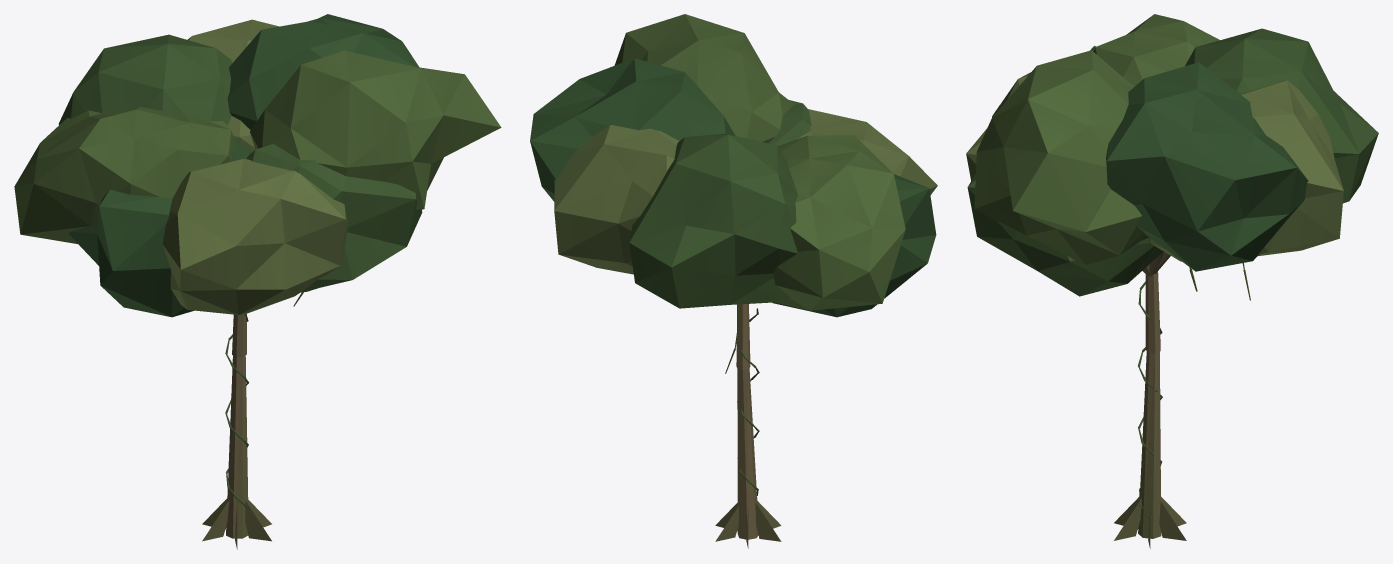
File: jungle-canopy-b-vines.glb
3 views of the same model, side by side, from view 1: azimuth 30°, elevation 25°; view 2: azimuth 150°, elevation 25°; view 3: azimuth 270°, elevation 25° (orthographic). The views are drawn at different scales.
Parts seen in each view (by area): view 1: Широколистное дерево с лианами; view 2: Широколистное дерево с лианами; view 3: Широколистное дерево с лианами.
Part boxes in pixels (bbox=[...]): Широколистное дерево с лианами: bbox=[14, 14, 501, 549]; Широколистное дерево с лианами: bbox=[530, 14, 937, 548]; Широколистное дерево с лианами: bbox=[966, 14, 1378, 548].
Bounding box in the file's own units: 20.71 × 25.01 × 18.53.
